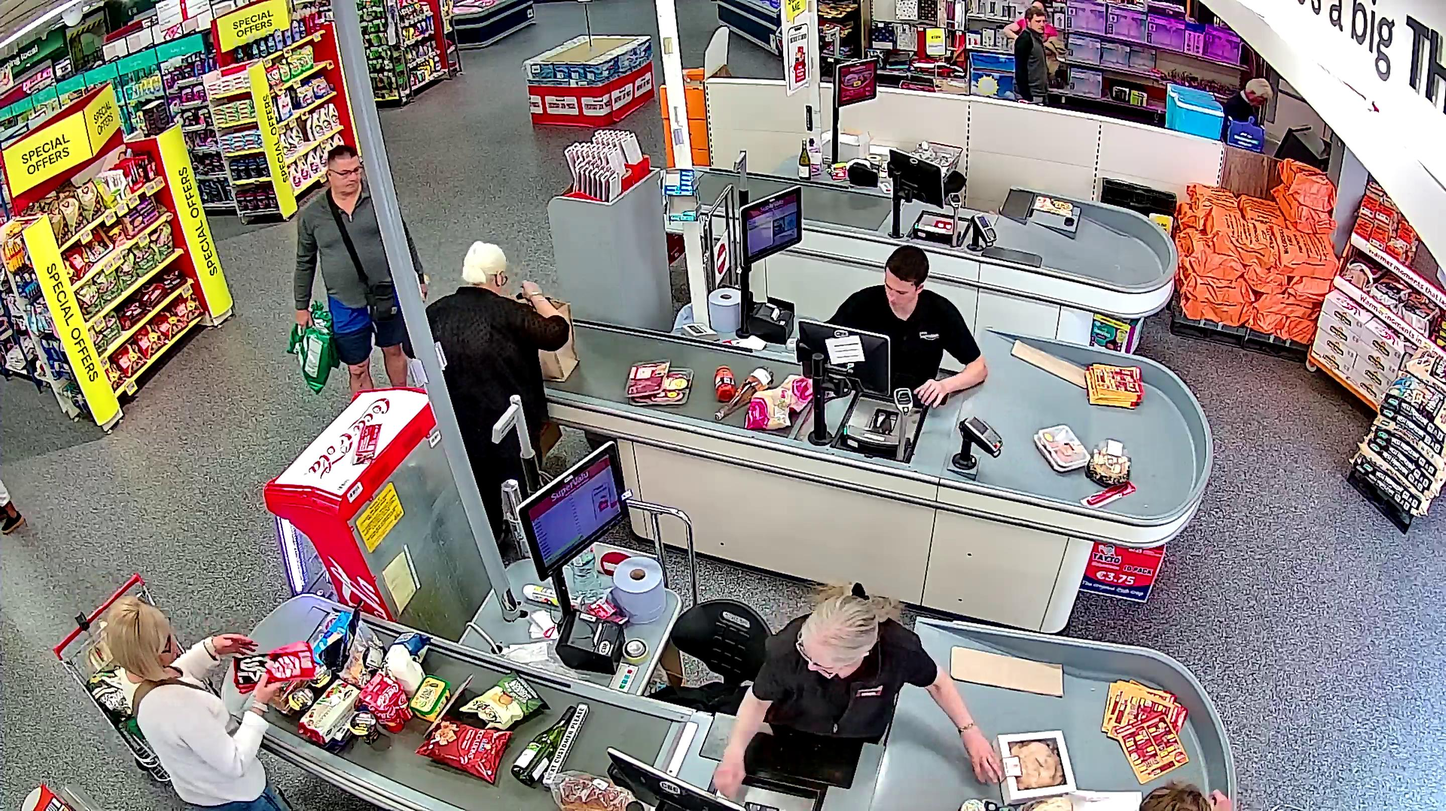backpack-or-handbag: (358, 269, 412, 325)
carrying-item: (286, 299, 338, 395)
occupied-checkout-counter: (514, 438, 941, 811), (734, 183, 1003, 474)
person: (293, 140, 427, 388)
person-with-backpack-handbag-and-carrying-item-s-: (287, 140, 429, 397)
vacant-checkout-counter: (830, 52, 1032, 251)
